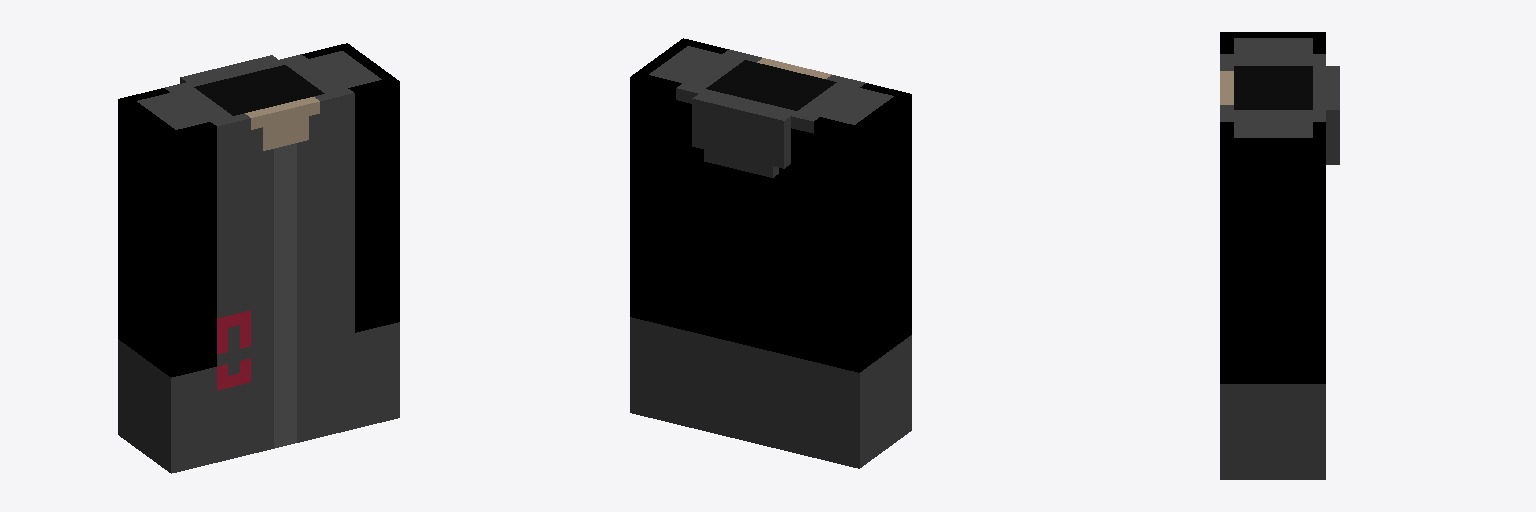
3 renders of one model, left to right at view 1: azimuth 30°, elevation 25°; view 2: azimuth 150°, elevation 25°; view 3: azimuth 270°, elevation 25°, orthographic.
Visible parts, largest first — view 1: torso; view 2: torso; view 3: torso.
Part boxes in pixels (x1,y1,x2,y2): torso: (118,43,399,473); torso: (630,38,911,468); torso: (1220,32,1339,479).
Size of the model in its own units: 2 by 2.8 by 0.9.
Materials: 1 (1 with a texture image).